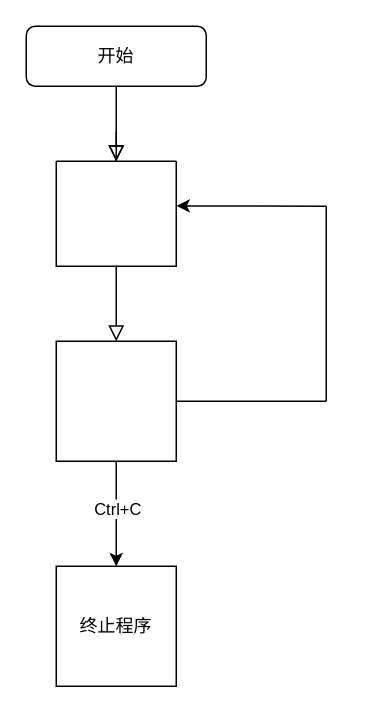
The diagram is 365 pixels wide and 713 high, and some of its shapes have lost their labels. The centre of each missing label's shape, as x and y in pixels:
"while(1)" belongs at point 115,213.
"输出:This is a endless loop!" belongs at point 115,400.
